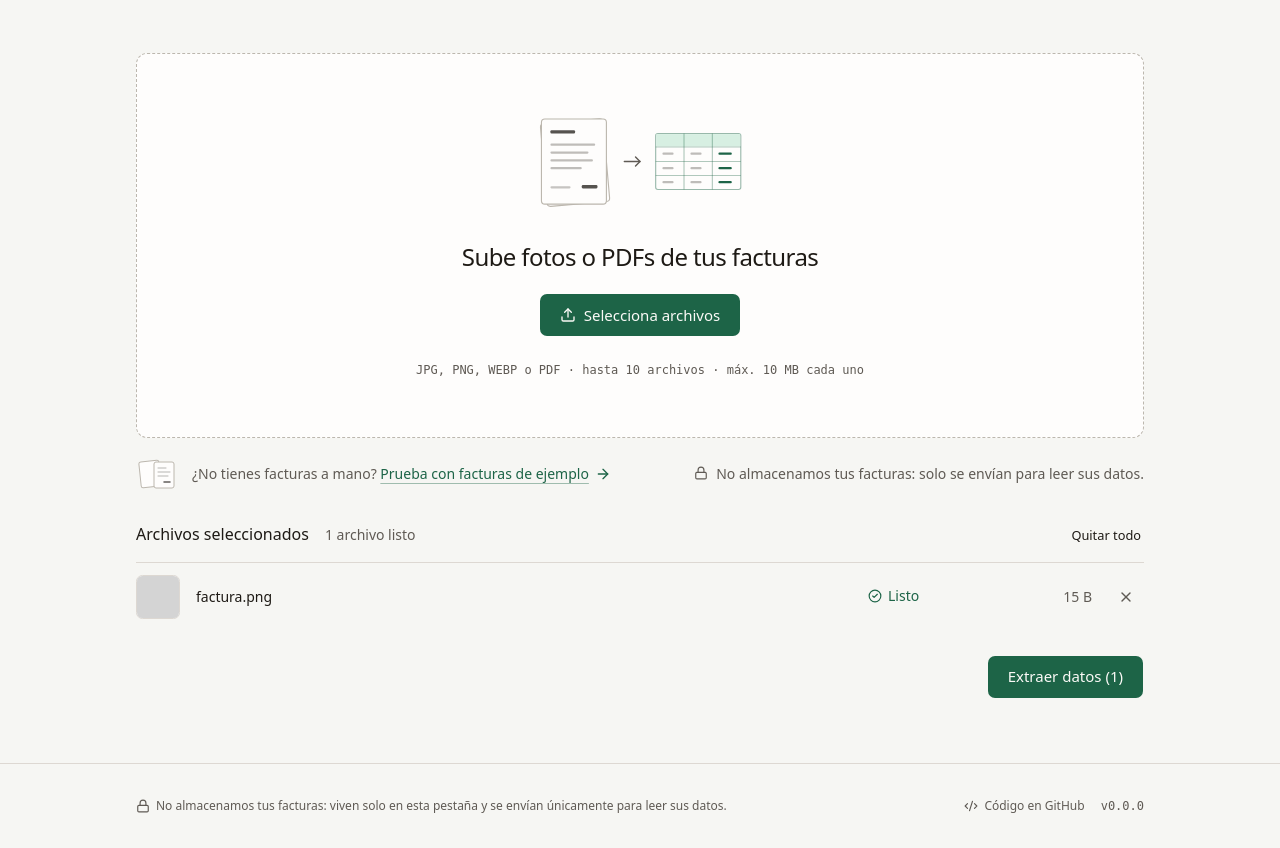
Test case: Upload → extract › explains a 429 and blocks the retry until the wait is over
Earlier steps of the test are not shown.
Later steps or results of the test are not shown.
(page scrolled)
Click the button "Extraer datos (1)": (1065, 676) [987, 654, 1144, 698]
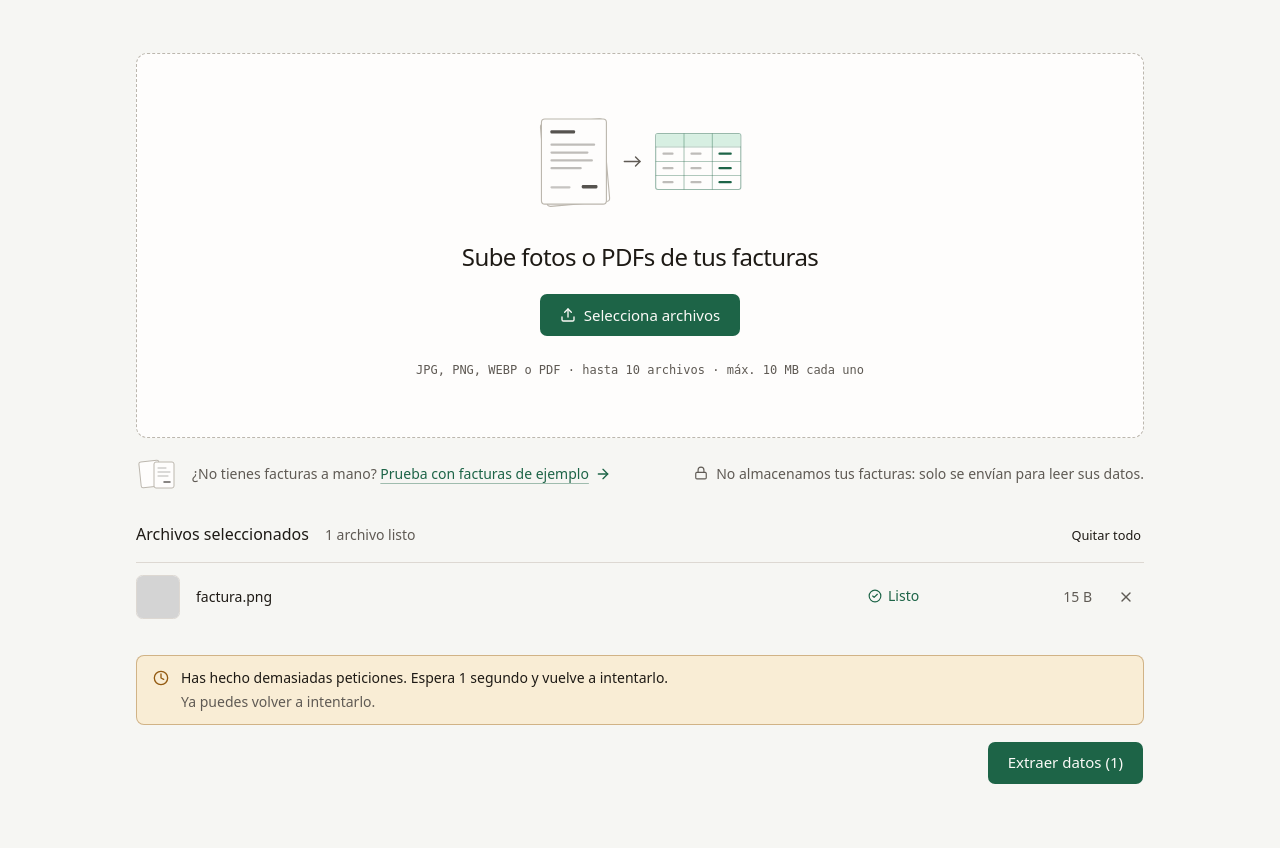
Expected: the button "Extraer datos (1)" is enabled, [987, 740, 1144, 784]
Now the message shows "Has hecho demasiadas peticiones. Espera 1 segundo y vuelve a intentarlo.", box [181, 668, 668, 686]
Now the text "Ya puedes volver a intentarlo." is shown, box [181, 692, 375, 710]
